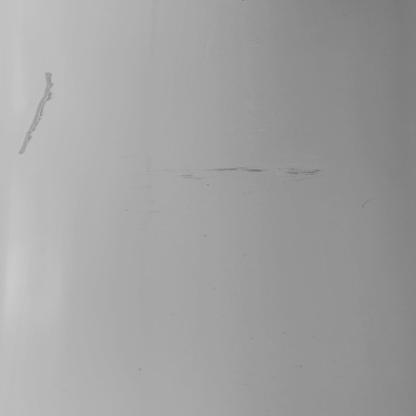sunshang: (16, 71, 57, 151), (183, 164, 321, 184)
